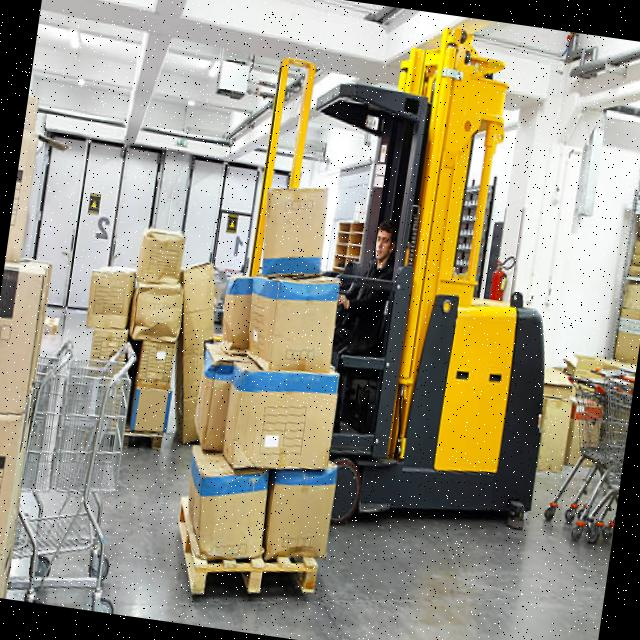Wooden-Pallets: (169, 488, 322, 609)
